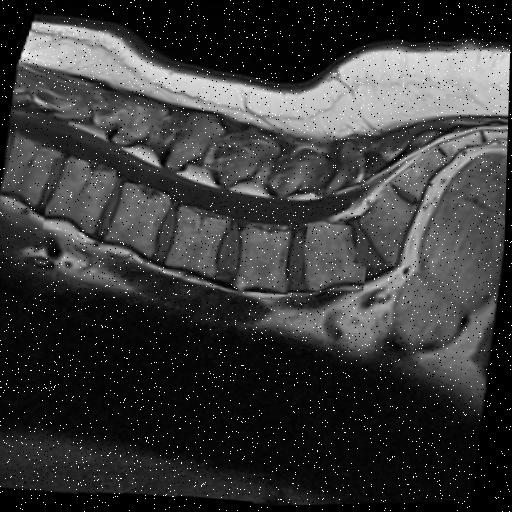L1: (46, 158, 117, 233)
L2: (105, 183, 172, 257)
L3: (168, 207, 230, 278)
L4: (236, 227, 294, 292)
L5: (306, 224, 368, 291)
S1: (362, 186, 418, 268)
